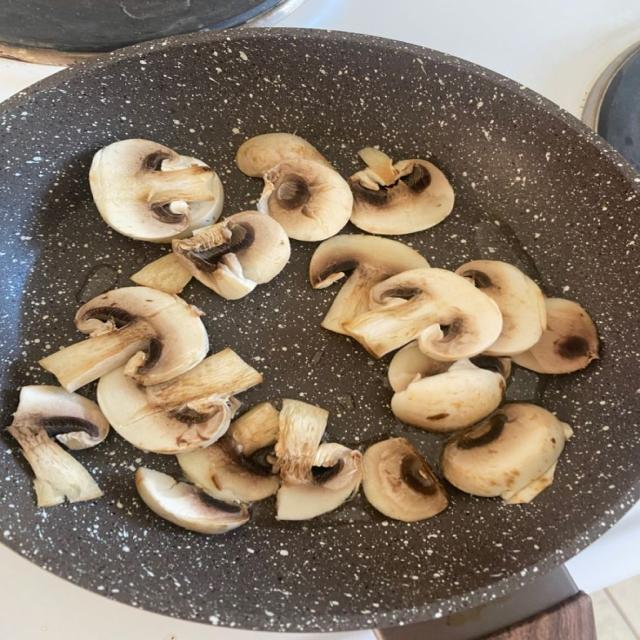champignon mushrooms: (40, 287, 208, 391), (98, 349, 262, 454), (344, 269, 502, 360), (90, 139, 223, 242), (441, 404, 572, 502), (7, 386, 108, 506), (310, 235, 428, 333), (173, 212, 290, 299), (276, 400, 361, 519), (177, 403, 279, 502), (348, 148, 454, 234), (456, 260, 546, 355), (392, 357, 506, 432), (258, 160, 353, 241), (135, 468, 249, 534), (363, 438, 448, 521), (514, 299, 599, 373), (236, 133, 330, 177), (388, 341, 452, 392), (388, 342, 453, 392), (131, 253, 192, 294)
